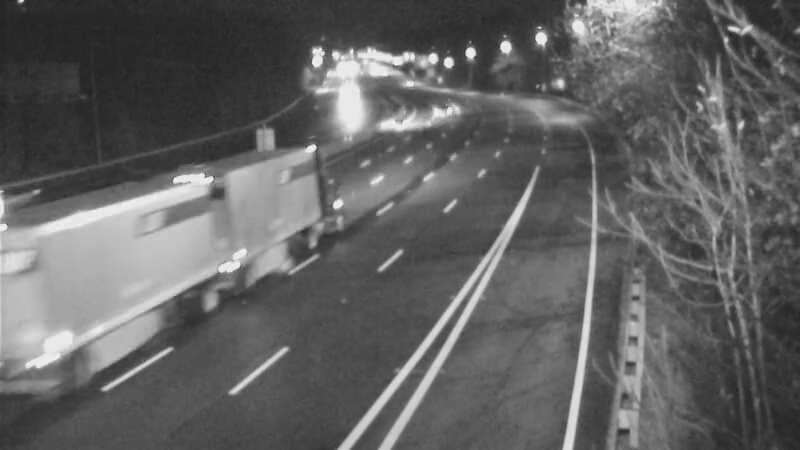vehicle: (161, 162, 241, 242), (1, 153, 68, 233), (380, 60, 430, 110), (419, 83, 469, 133), (374, 99, 424, 149), (320, 75, 370, 125)
